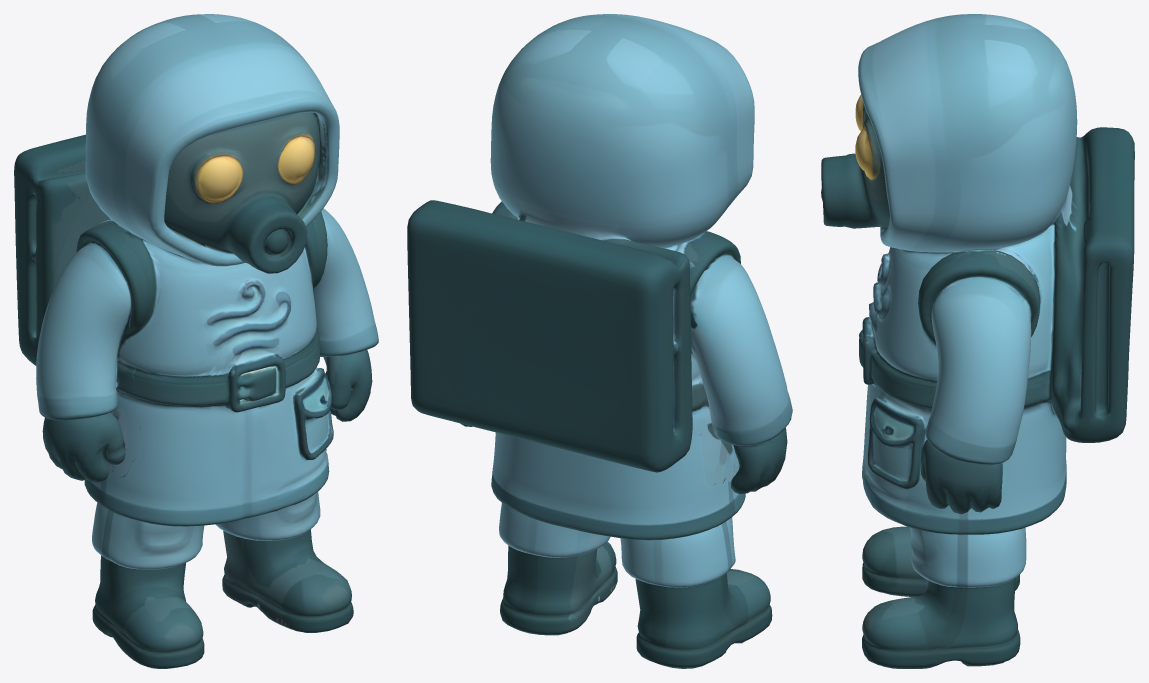
The model's file is SextoPersonaje.fbx.
3 renders of one model, left to right at view 1: azimuth 30°, elevation 25°; view 2: azimuth 150°, elevation 25°; view 3: azimuth 270°, elevation 25°, orthographic. The views are drawn at different scales.
Parts seen in each view (by area): view 1: model_LOD0; view 2: model_LOD0; view 3: model_LOD0.
Boxes of the visible parts, x1,y1,x2,y2 form: model_LOD0: (14,14,378,668); model_LOD0: (407,14,792,668); model_LOD0: (821,14,1134,668).
Size of the model in its own units: 110 by 188 by 90.35.
